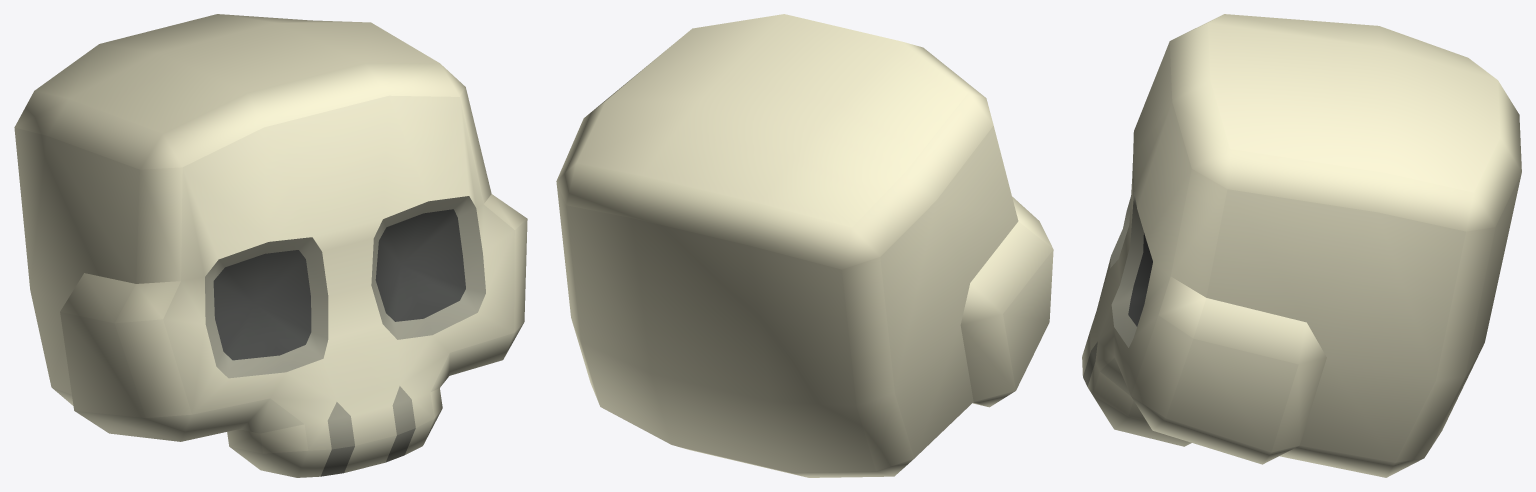
File: skull_top.fbx
The picture shows the model from 3 angles, left to right: view 1: azimuth 30°, elevation 25°; view 2: azimuth 150°, elevation 25°; view 3: azimuth 270°, elevation 25°; orthographic projection. The views are drawn at different scales.
Visible parts, largest first — view 1: skull_top; view 2: skull_top; view 3: skull_top.
Part boxes in pixels (<box>): skull_top: <box>14,14,527,477</box>; skull_top: <box>556,14,1053,477</box>; skull_top: <box>1082,14,1521,477</box>.
Bounding box in the file's own units: 53.53 × 45.94 × 49.41.
